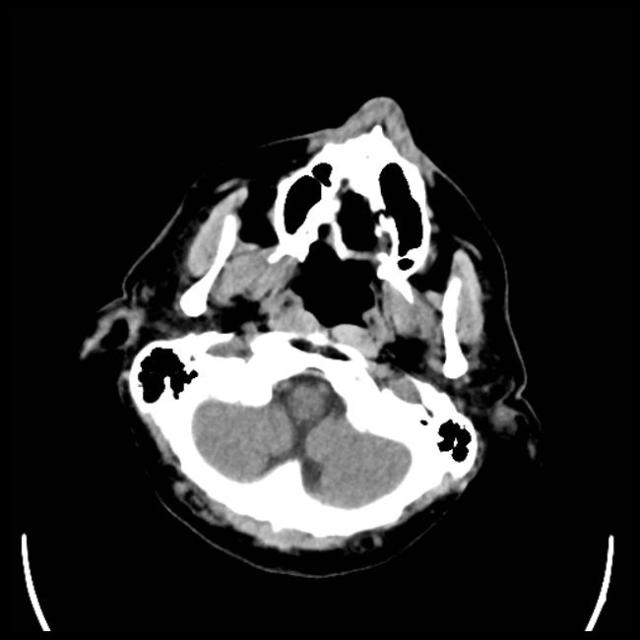lesion: (78, 94, 543, 573)
